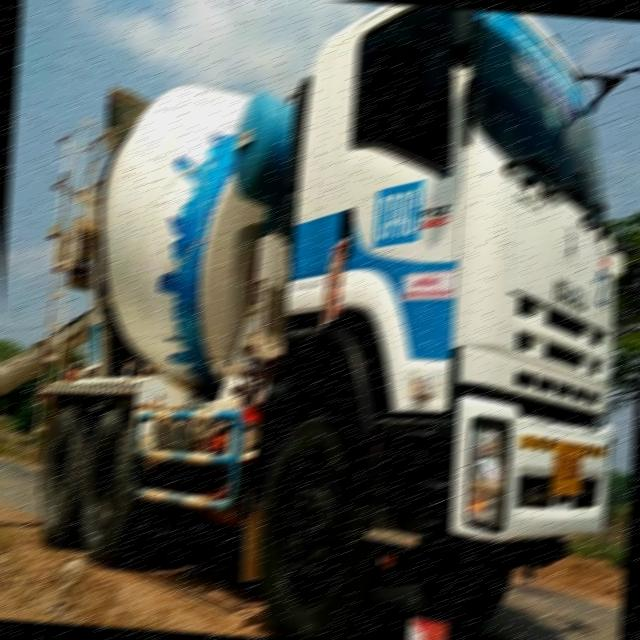cement_mixer_truck: (24, 0, 640, 639)
